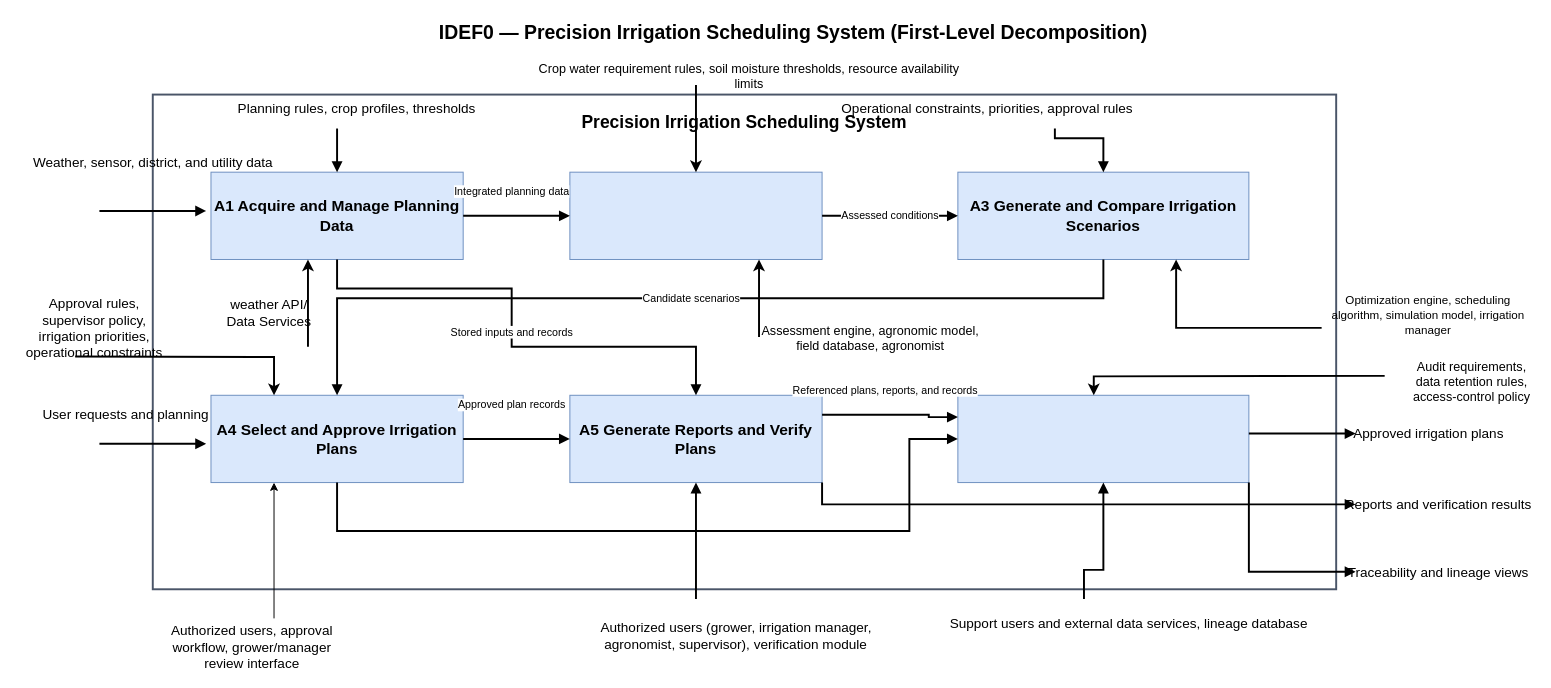
This 1551x688 diagram has some shape labels left out. Each missing label, with the centre of its shape:
A2 Assess Field and Resource Conditions: (x=695, y=215)
A6 Trace Data Lineage: (x=1103, y=438)
